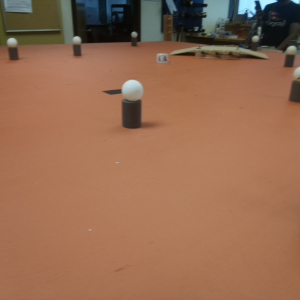obstacle: (121, 80, 145, 127), (5, 38, 22, 59), (71, 33, 85, 57), (283, 44, 295, 70), (292, 70, 300, 102), (129, 31, 140, 48), (250, 35, 261, 49)
side: (197, 49, 237, 59)
slope: (240, 49, 270, 65), (172, 47, 195, 58)
